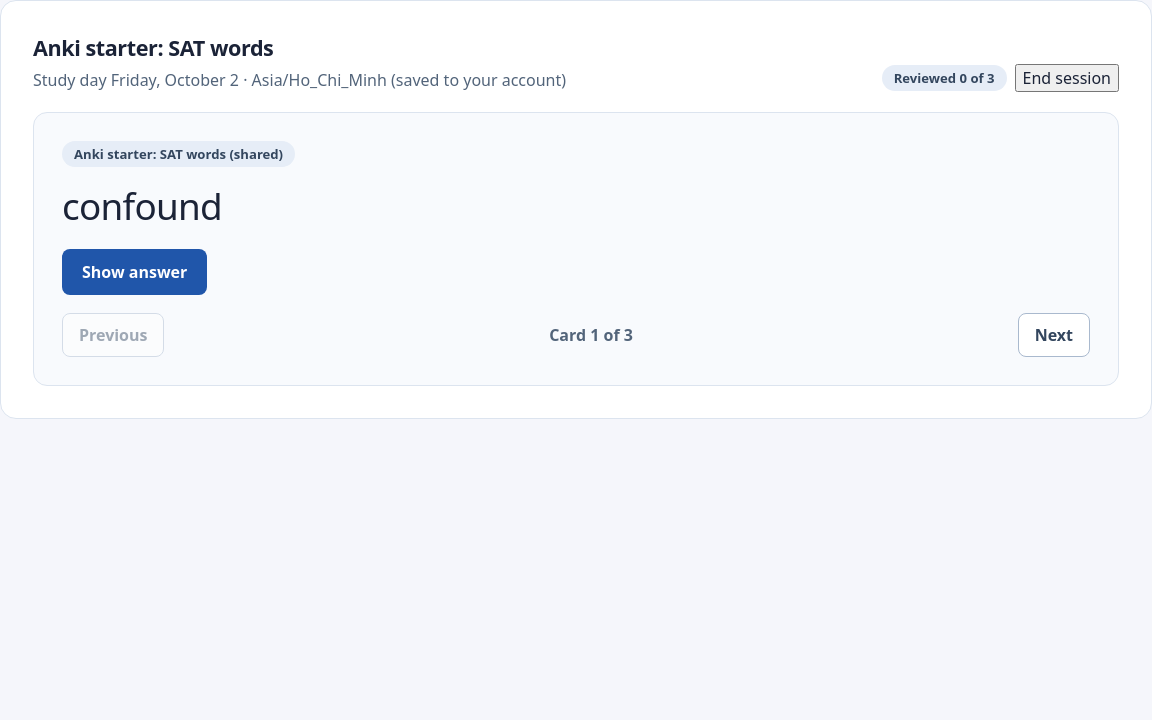
Test case: rates Not sure after the reveal, records progress, and advances automatically
Click the button "Show answer".
click(135, 272)  # box [62,249,207,295]
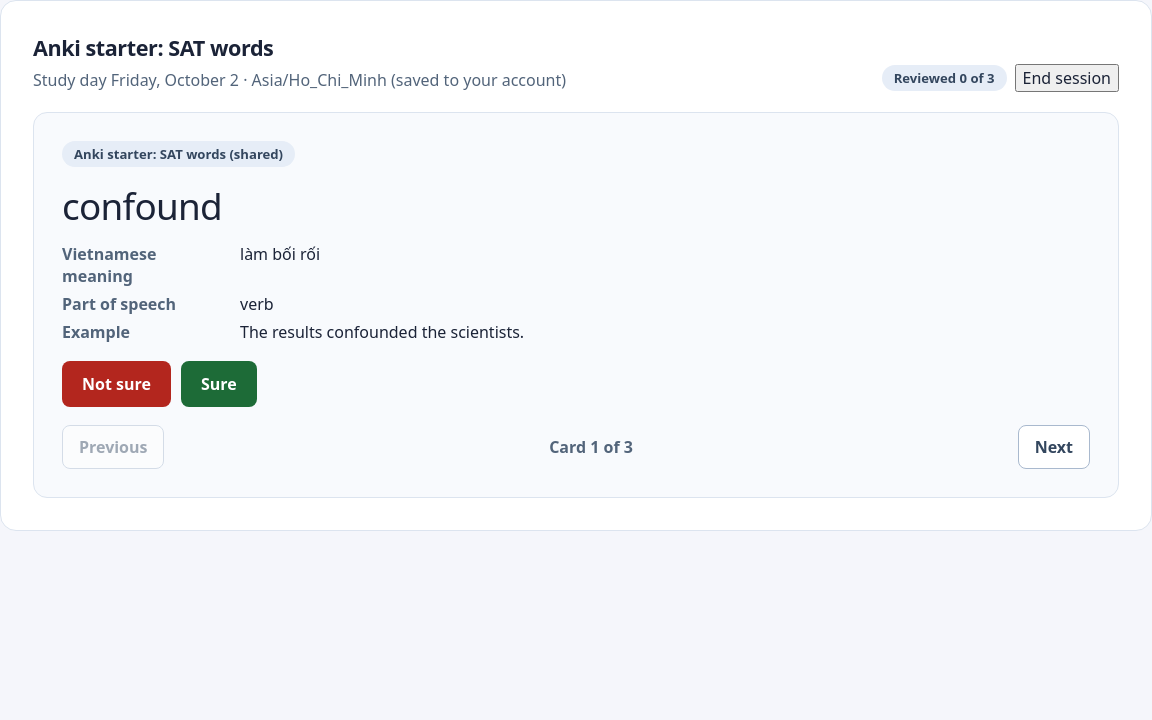
Click the button "Not sure".
click(116, 384)  # box [62,361,171,407]
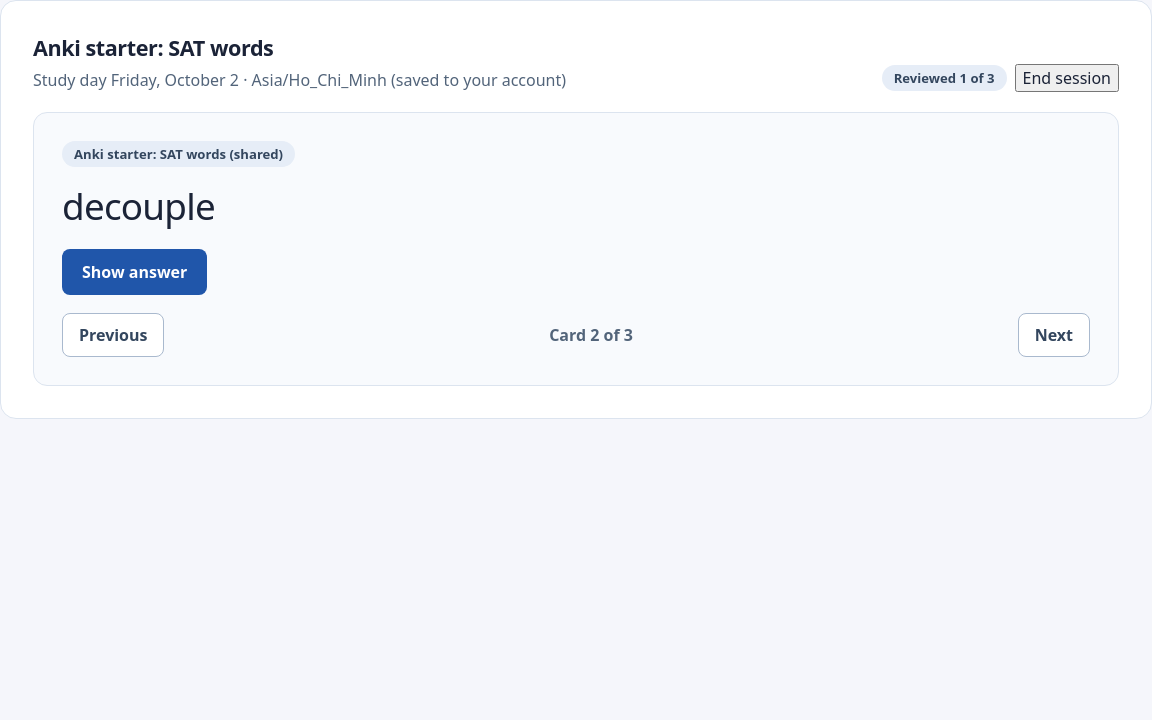
Result: the text "decouple" is shown at [62,181,215,231]
Result: the text "Reviewed 1 of 3" is shown at [882,65,1006,91]
Click the button "Previous".
click(113, 335)  # box [62,313,164,357]
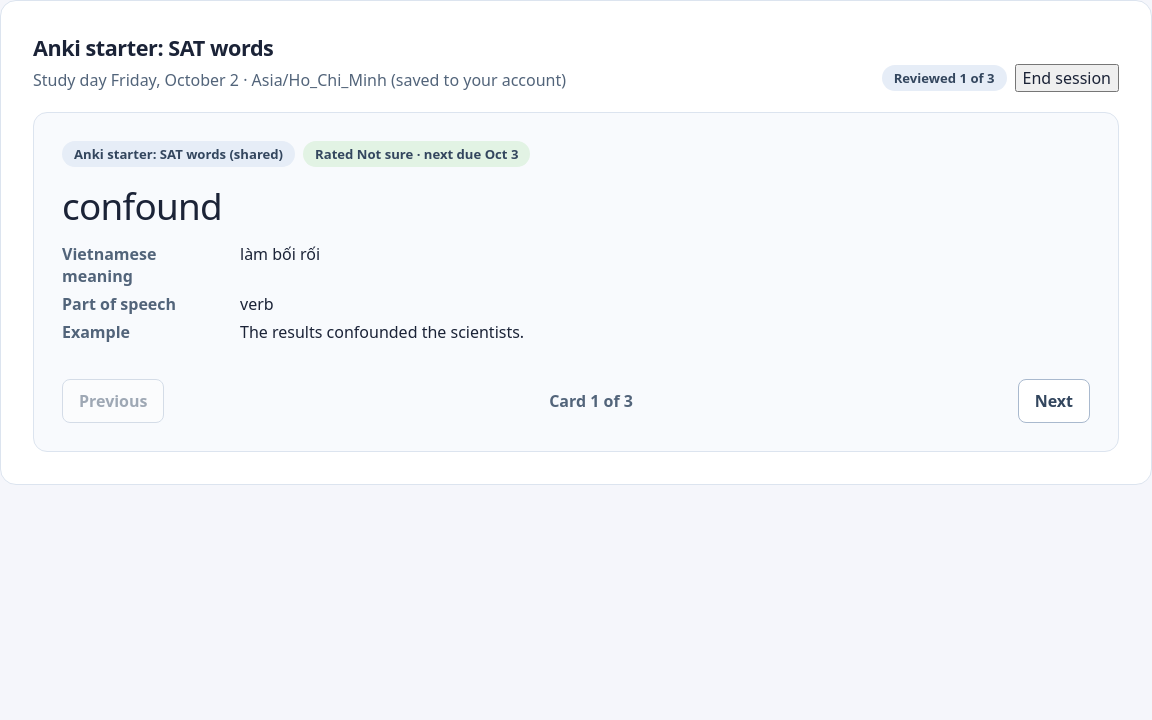
Result: the text "Rated Not sure · next due Oct 3" is shown at [303,141,530,167]
